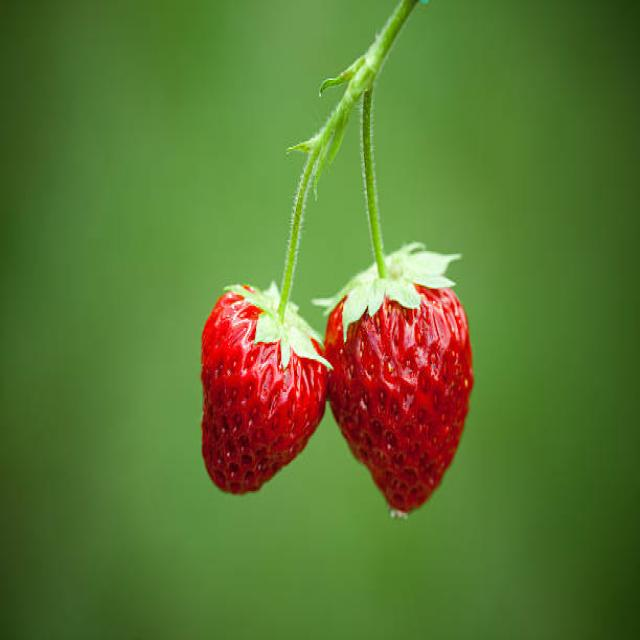Healthy Fruit: (324, 285, 475, 514), (200, 285, 330, 500)
